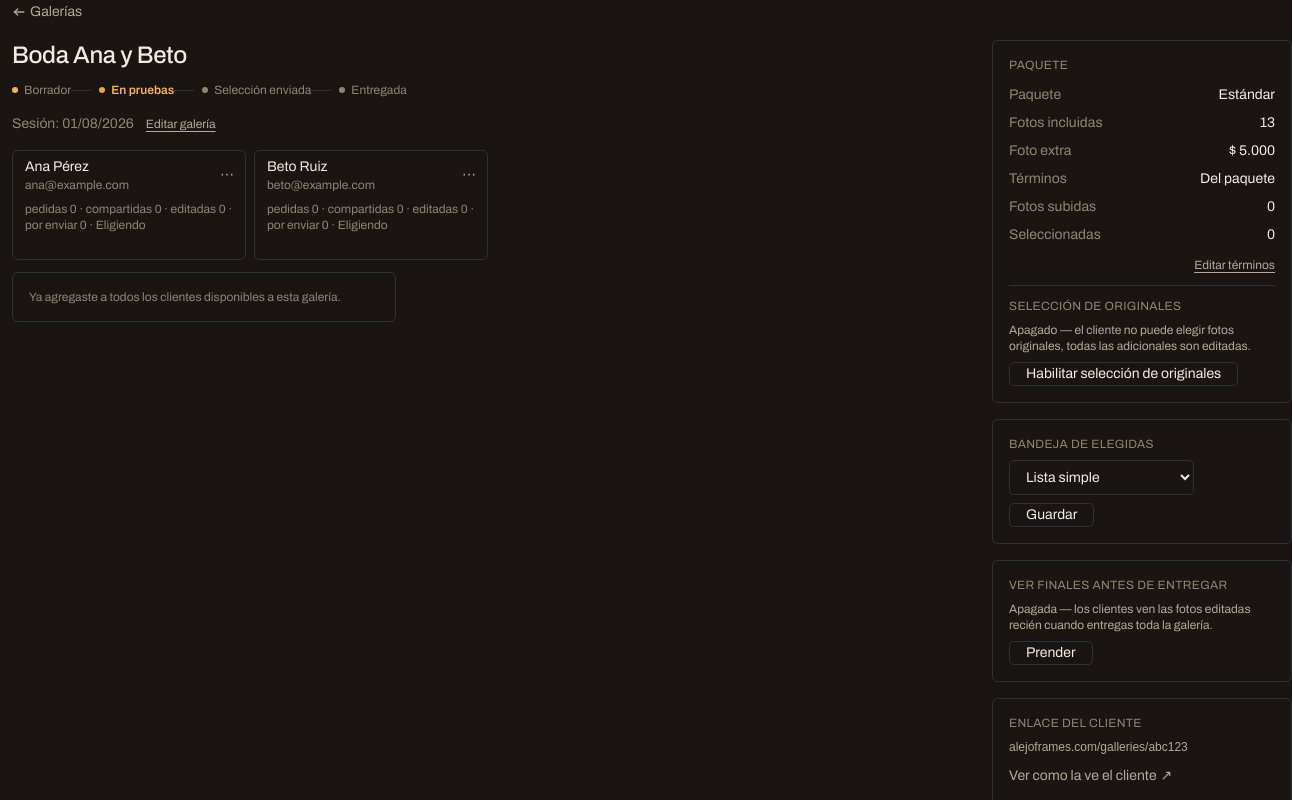
it: GalleryDetailPage — attaching and removing clients (task #97) › shows a Quitar affordance for each active client when there is more than one
Click the button named "Acciones para Ana Pérez" at (227, 175), box x1=215 y1=163 x2=239 y2=187
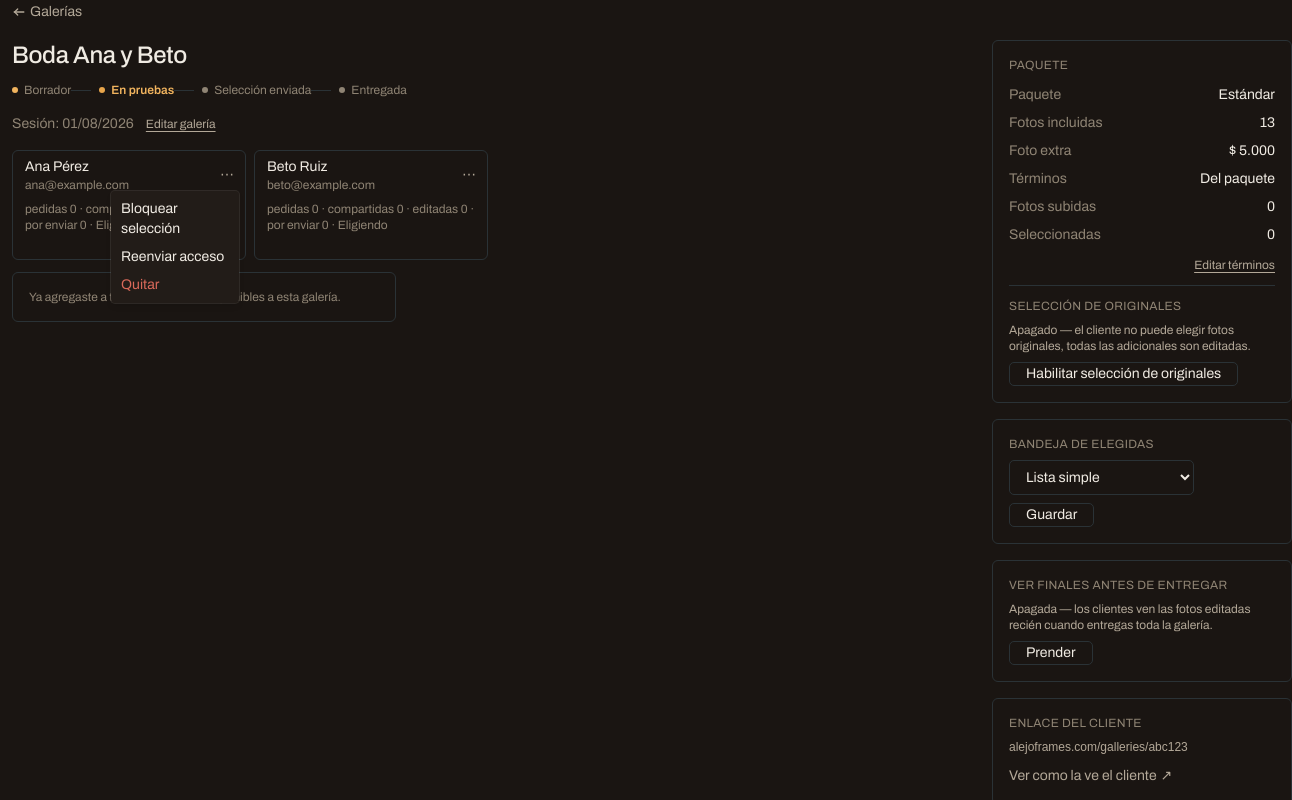
Check: the menu item "Quitar" is shown, box x1=121 y1=277 x2=160 y2=292
Press Escape
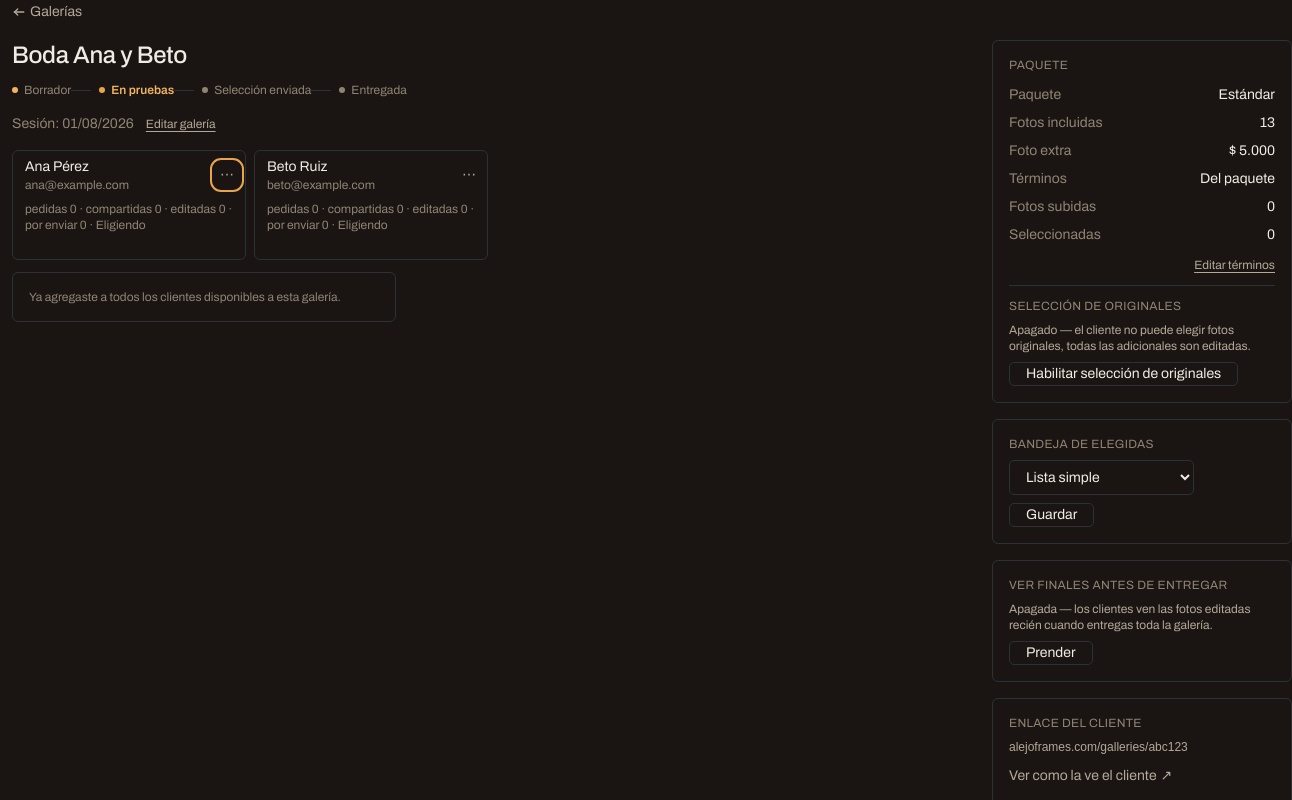
Click the button named "Acciones para Beto Ruiz" at (469, 175), box x1=457 y1=163 x2=481 y2=187
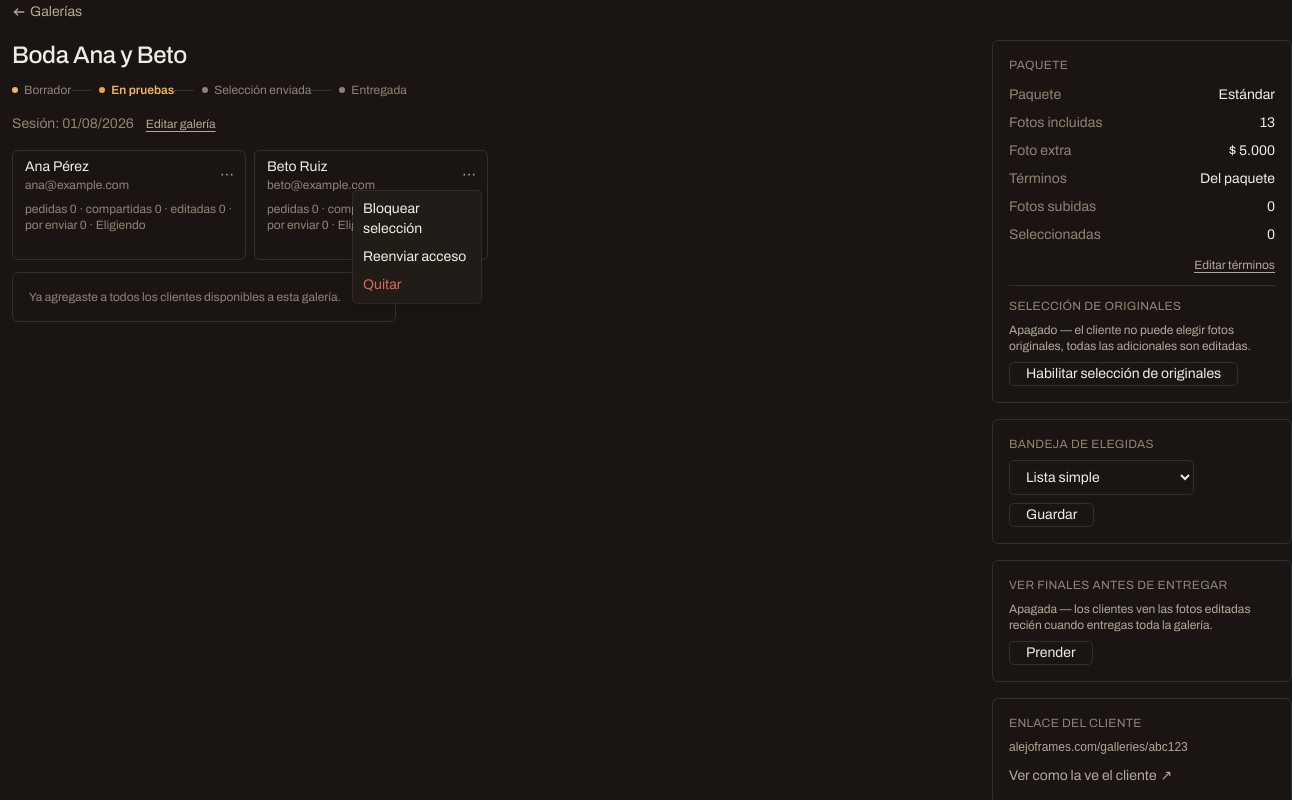
Check: the menu item "Quitar" is shown, box x1=363 y1=277 x2=402 y2=292
